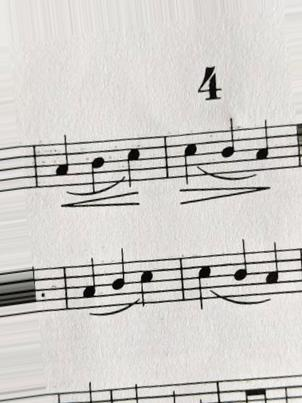note: (229, 236, 255, 298), (106, 245, 131, 306), (189, 257, 216, 313), (260, 239, 284, 297), (119, 138, 146, 189), (218, 115, 240, 174), (49, 132, 73, 186), (252, 118, 275, 173), (180, 131, 203, 185), (133, 261, 157, 310), (79, 253, 99, 311), (89, 139, 105, 194)
